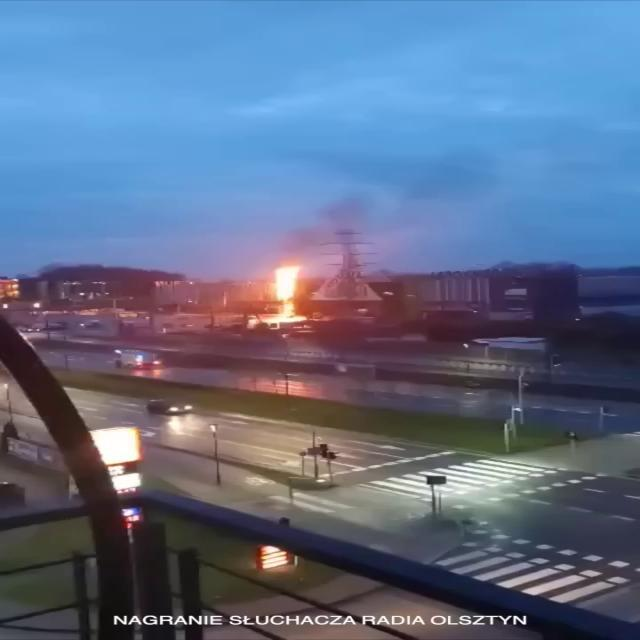Fire: (249, 259, 318, 327)
Smoke: (258, 192, 391, 270)
